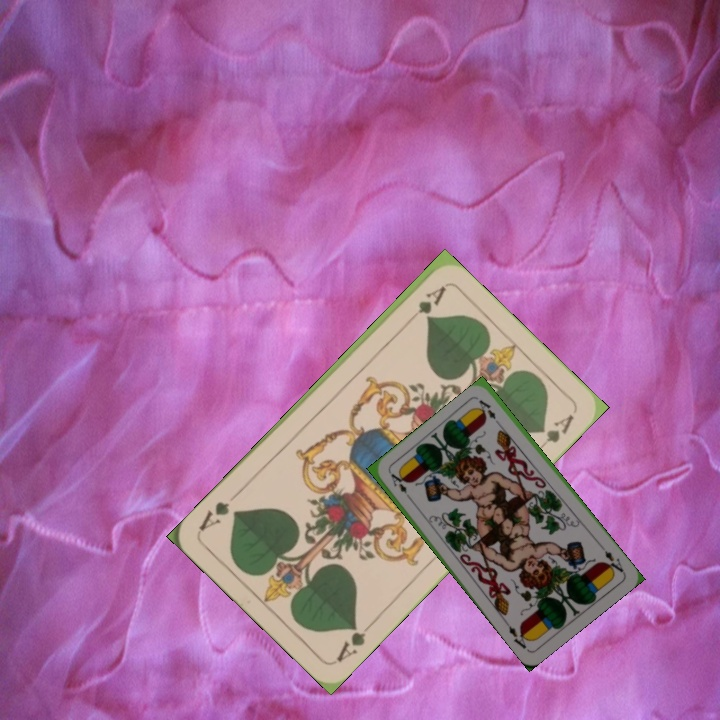EA: (597, 541, 626, 577), (387, 469, 415, 503)
GA: (332, 620, 369, 665), (414, 282, 448, 316)
